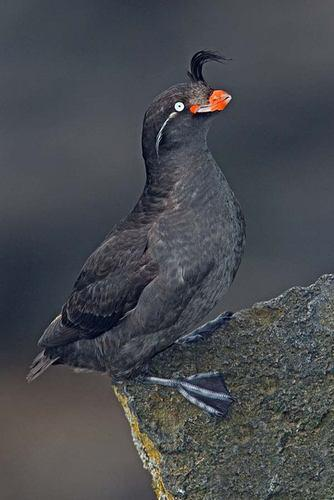005.Crested_Auklet: (23, 51, 249, 418)
